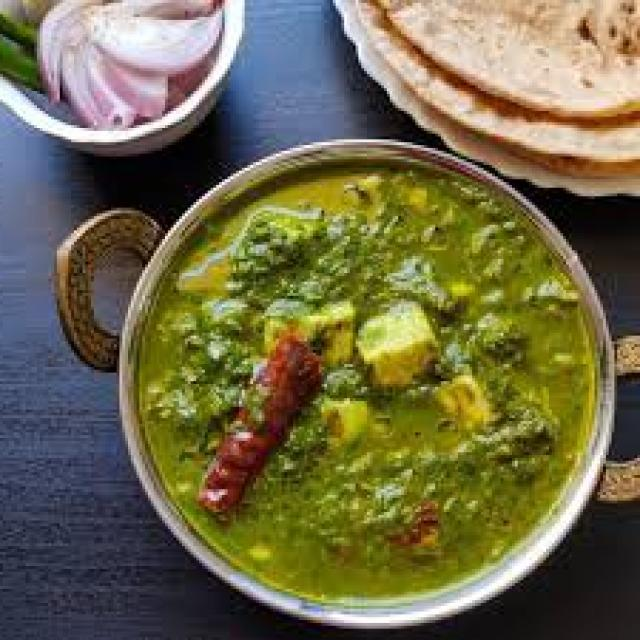Palak Paneer: (137, 159, 598, 602)
